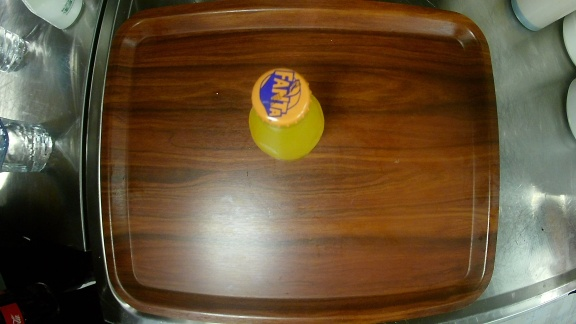kutufanta: (245, 65, 329, 168)
